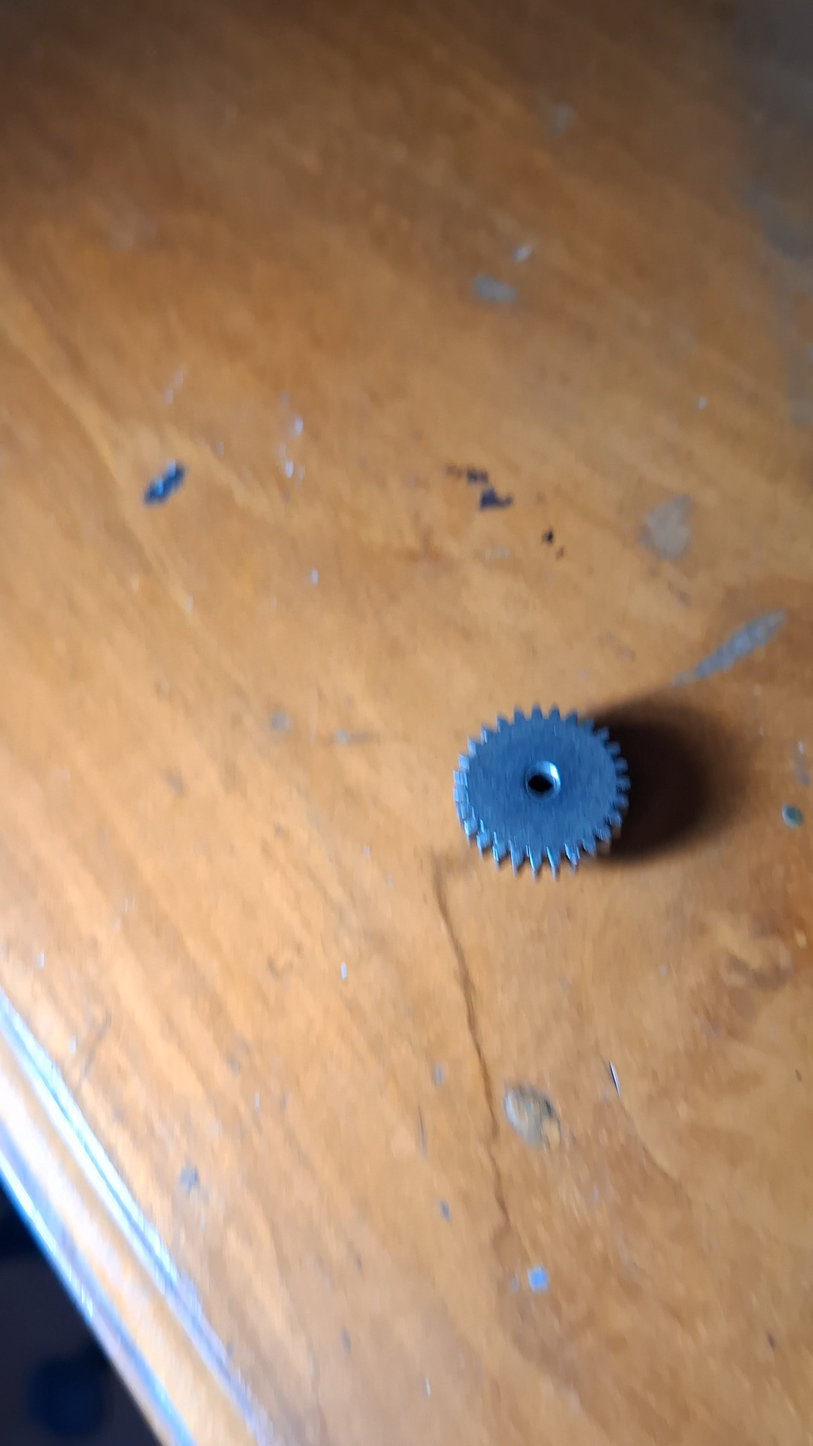spur gear: (454, 707, 629, 876)
